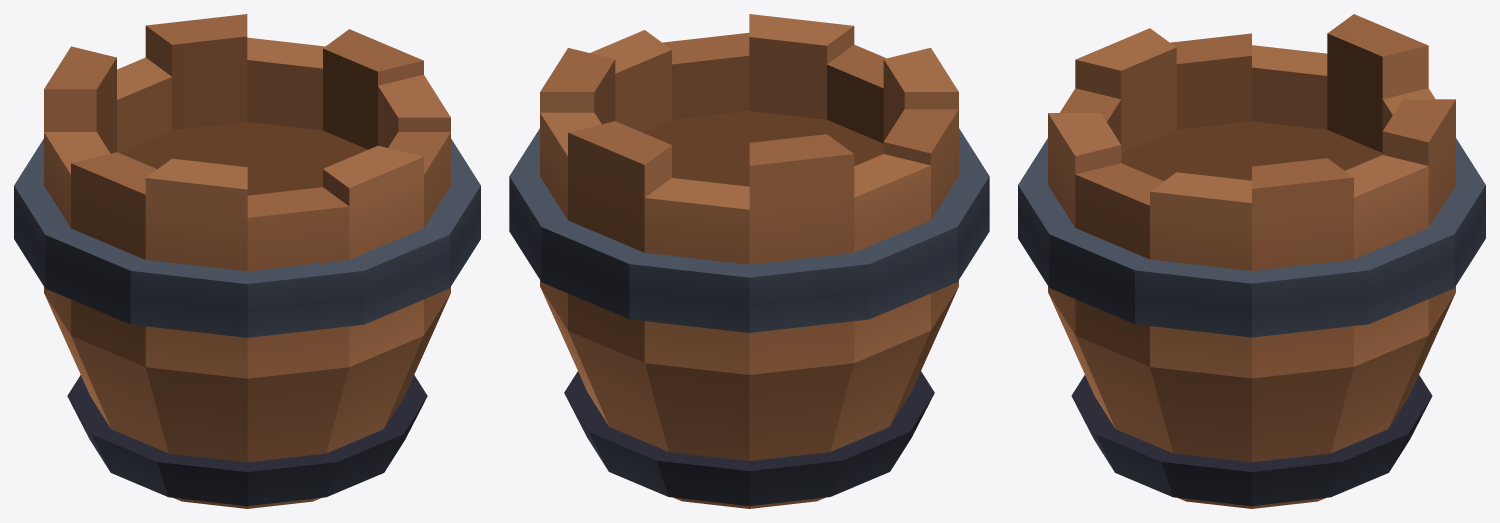
Rendered from mt_prop_pot.fbx.
3 renders of one model, left to right at view 1: azimuth 30°, elevation 25°; view 2: azimuth 150°, elevation 25°; view 3: azimuth 270°, elevation 25°, orthographic. The views are drawn at different scales.
Parts seen in each view (by area): view 1: prop_pot; view 2: prop_pot; view 3: prop_pot.
Part boxes in pixels (bbox=[...]): prop_pot: bbox=[14, 14, 480, 508]; prop_pot: bbox=[509, 14, 989, 508]; prop_pot: bbox=[1018, 14, 1485, 508].
Bounding box in the file's own units: 89.65 × 77.13 × 89.65.
